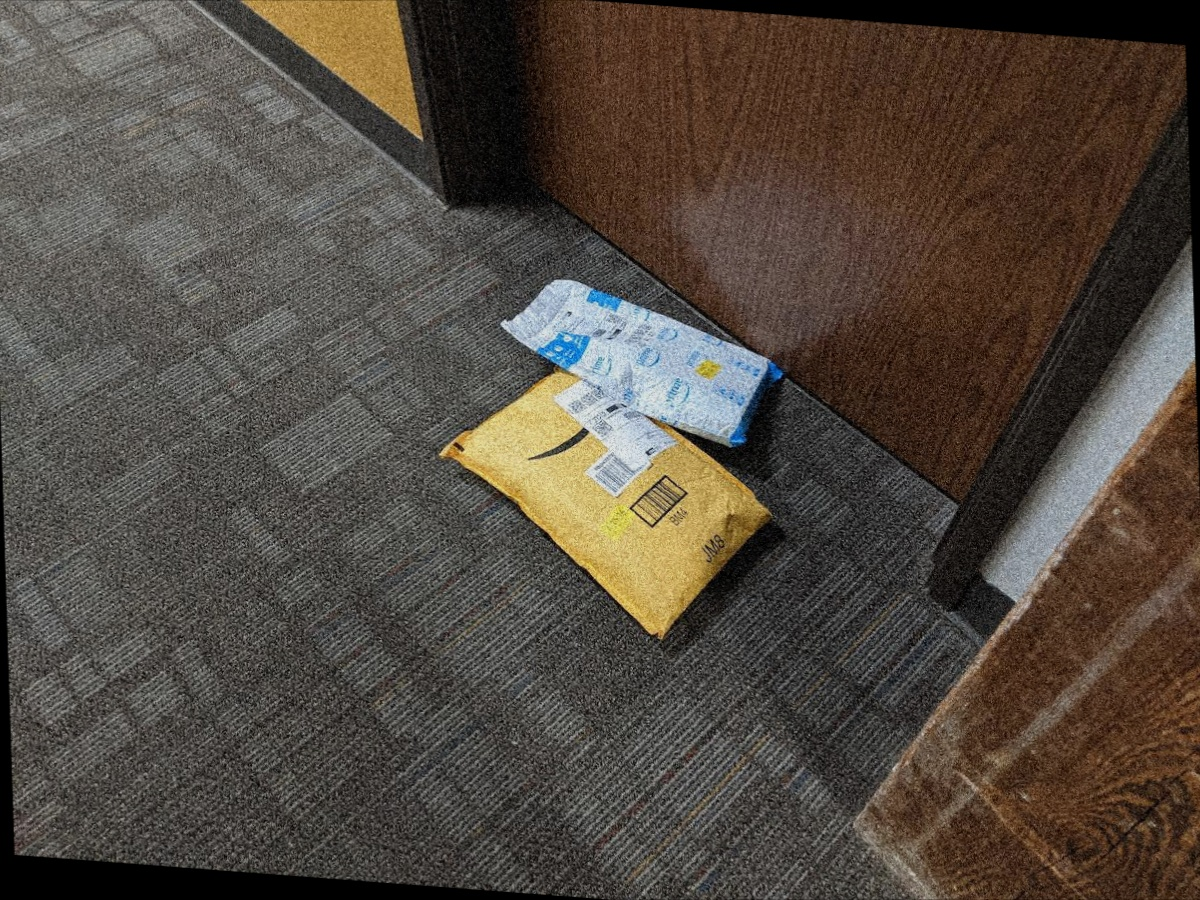good-parcel: (400, 376, 819, 639), (477, 249, 839, 444)
